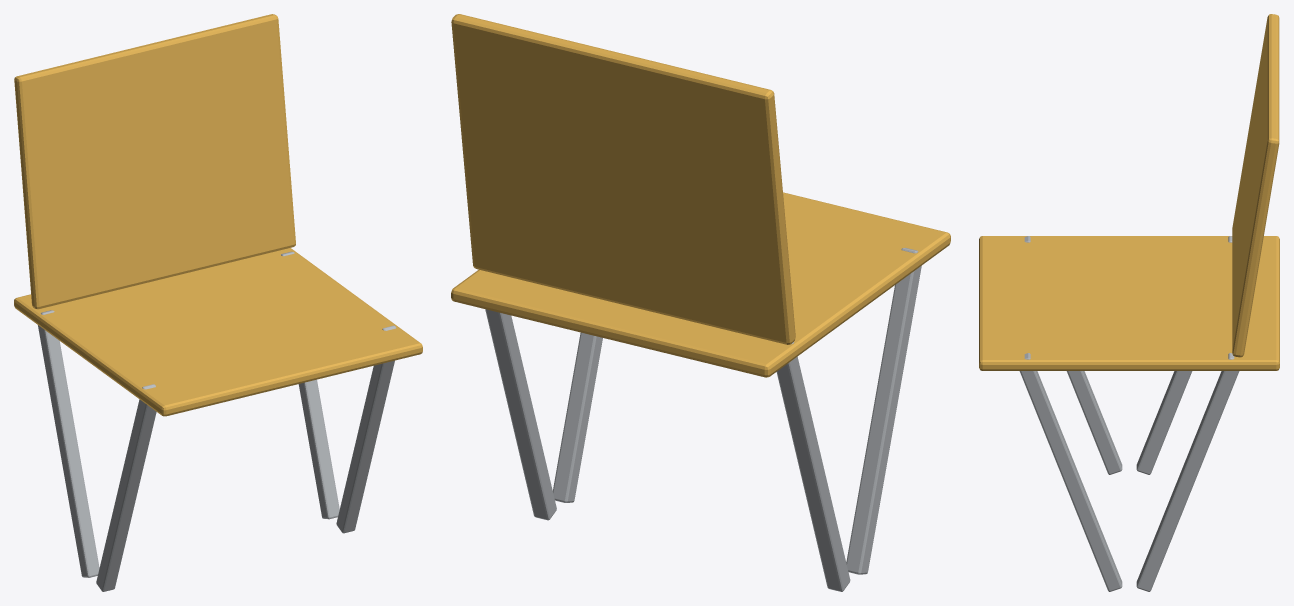
The model's file is hh_garden_chair.glb.
The picture shows the model from 3 angles, left to right: view 1: azimuth 30°, elevation 25°; view 2: azimuth 150°, elevation 25°; view 3: azimuth 270°, elevation 25°; orthographic projection. The views are drawn at different scales.
Parts seen in each view (by area): view 1: back, seat, leg.001, leg, leg.002, leg.003; view 2: back, seat, leg, leg.001, leg.003, leg.002; view 3: seat, back, leg.002, leg.003, leg, leg.001.
Part boxes in pixels (<box>): back: <box>14,14,295,309</box>; seat: <box>14,248,422,416</box>; leg.001: <box>38,310,99,577</box>; leg: <box>96,384,156,591</box>; leg.002: <box>336,325,396,533</box>; leg.003: <box>281,251,339,519</box>; back: <box>451,14,795,344</box>; seat: <box>451,192,950,377</box>; leg: <box>846,247,921,574</box>; leg.001: <box>776,342,850,591</box>; leg.003: <box>485,309,556,520</box>; leg.002: <box>553,332,602,502</box>; seat: <box>979,236,1279,370</box>; back: <box>1232,14,1279,357</box>; leg.002: <box>1019,353,1122,591</box>; leg.003: <box>1136,353,1239,591</box>; leg: <box>1024,236,1122,474</box>; leg.001: <box>1136,236,1232,474</box>.
Size of the model in its own units: 0.5 by 0.8339 by 0.5.
